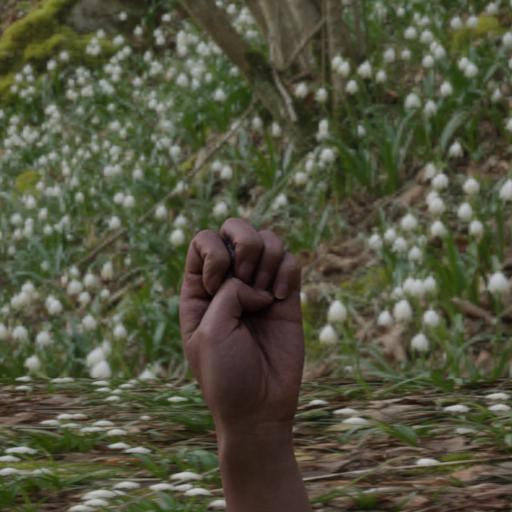E: (170, 207, 312, 428)
